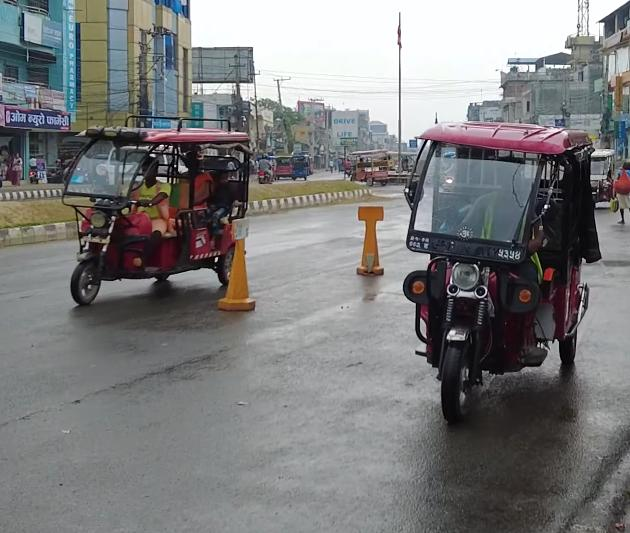e-rickshaw: (395, 115, 604, 429), (63, 113, 248, 314), (583, 147, 619, 206), (344, 150, 388, 188), (288, 152, 314, 181)
